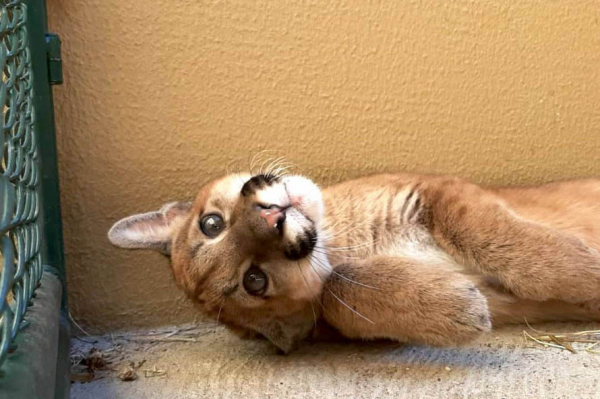OncaParda: (99, 161, 596, 356)
